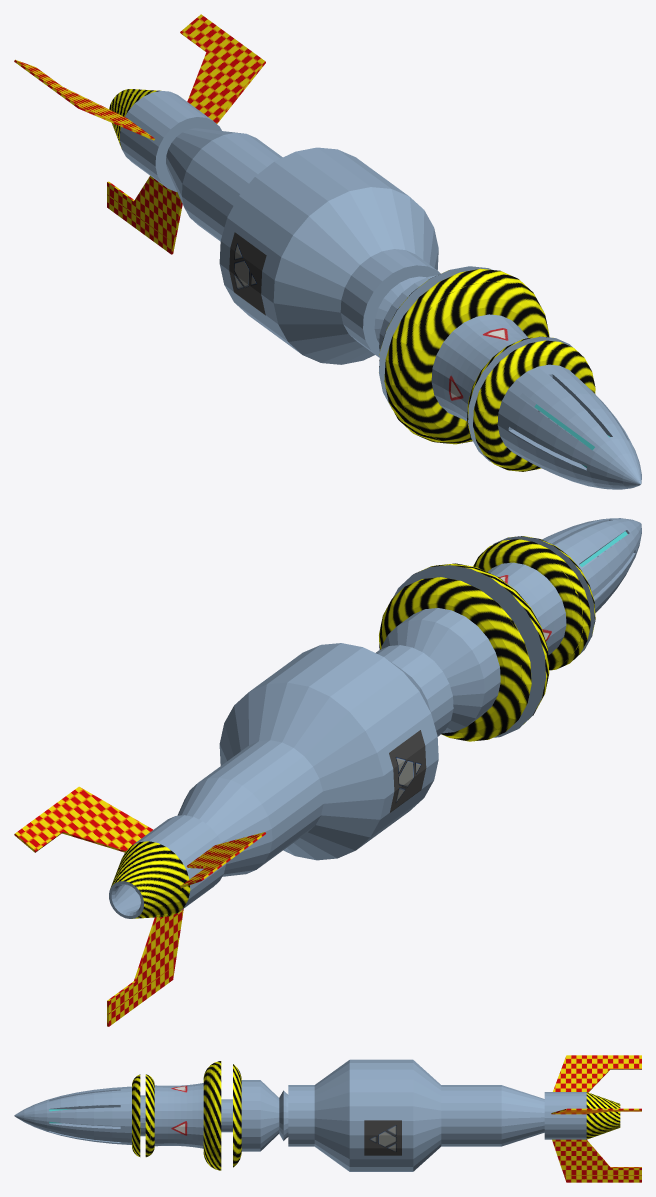
The model's file is torpedo2.obj.
3 views of the same model, one above another, from view 1: azimuth 30°, elevation 25°; view 2: azimuth 150°, elevation 25°; view 3: azimuth 270°, elevation 25° (orthographic). The views are drawn at different scales.
Visible parts, largest first — view 1: torpedo.001_Mesh.010; view 2: torpedo.001_Mesh.010; view 3: torpedo.001_Mesh.010.
Boxes of the visible parts, x1,y1,x2,y2 form: torpedo.001_Mesh.010: [14, 14, 641, 489]; torpedo.001_Mesh.010: [14, 518, 641, 1026]; torpedo.001_Mesh.010: [14, 1055, 641, 1182].
Size of the model in its own units: 0.9156 by 0.9279 by 4.49.
Materials: 3 (3 with a texture image).
